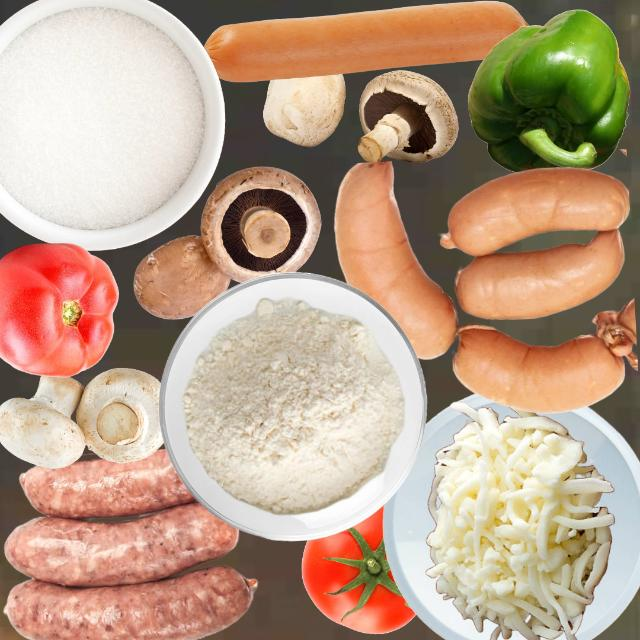Flour: (183, 295, 404, 514)
Sugar: (0, 5, 205, 229)
